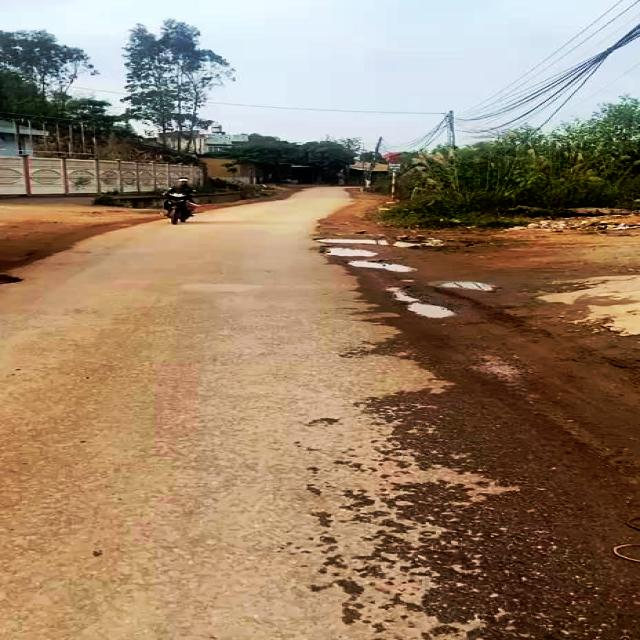pothole: (310, 235, 411, 247), (339, 260, 421, 274), (318, 245, 381, 258)
